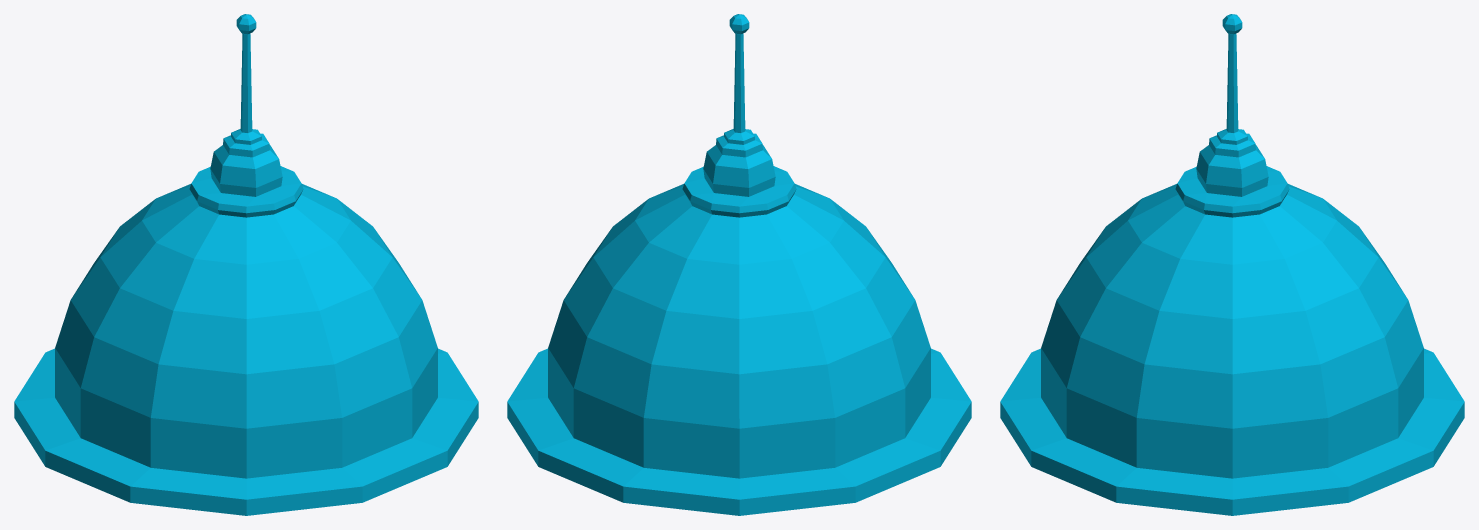
The model's file is SM_Bld_Roof_Cap_02.fbx.
3 renders of one model, left to right at view 1: azimuth 30°, elevation 25°; view 2: azimuth 150°, elevation 25°; view 3: azimuth 270°, elevation 25°, orthographic.
Parts seen in each view (by area): view 1: SM_Bld_Roof_Cap_02; view 2: SM_Bld_Roof_Cap_02; view 3: SM_Bld_Roof_Cap_02.
Part boxes in pixels (left/top/right/bottom): SM_Bld_Roof_Cap_02: left=14, top=14, right=478, bottom=515; SM_Bld_Roof_Cap_02: left=507, top=14, right=971, bottom=515; SM_Bld_Roof_Cap_02: left=1000, top=14, right=1464, bottom=515.
Bounding box in the file's own units: 523 × 501 × 523.
